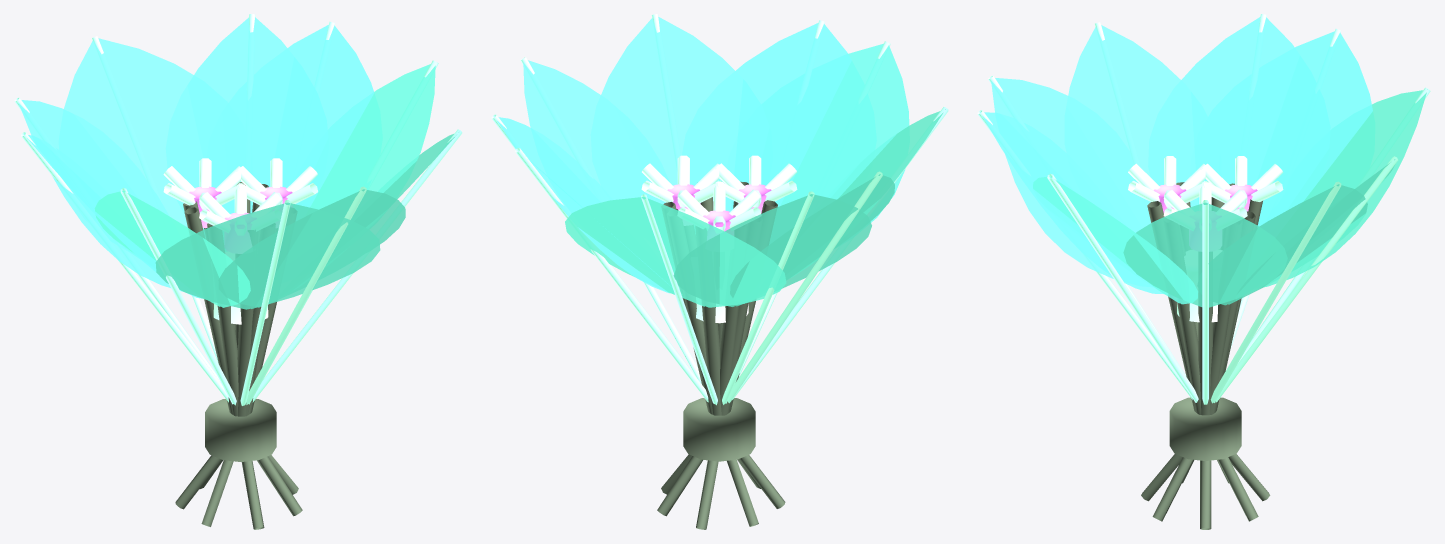
Rendered from aquaglow-mature.glb.
The picture shows the model from 3 angles, left to right: view 1: azimuth 30°, elevation 25°; view 2: azimuth 150°, elevation 25°; view 3: azimuth 270°, elevation 25°; orthographic projection.
Visible parts, largest first — view 1: shell-material-5-0, shell-material-7-0, shell-material-6-0, shell-material-8-0, shell-material-9-0; view 2: shell-material-5-0, shell-material-7-0, shell-material-6-0, shell-material-8-0, shell-material-9-0; view 3: shell-material-5-0, shell-material-7-0, shell-material-6-0, shell-material-8-0, shell-material-9-0.
Part boxes in pixels (left/top/right/bottom): shell-material-5-0: left=17, top=17, right=458, bottom=309; shell-material-7-0: left=175, top=182, right=302, bottom=529; shell-material-6-0: left=14, top=14, right=462, bottom=405; shell-material-8-0: left=163, top=158, right=317, bottom=324; shell-material-9-0: left=189, top=186, right=292, bottom=228; shell-material-5-0: left=494, top=17, right=945, bottom=307; shell-material-7-0: left=657, top=181, right=785, bottom=529; shell-material-6-0: left=491, top=14, right=948, bottom=405; shell-material-8-0: left=641, top=155, right=797, bottom=323; shell-material-9-0: left=667, top=184, right=771, bottom=231; shell-material-5-0: left=980, top=17, right=1427, bottom=307; shell-material-7-0: left=1141, top=182, right=1270, bottom=529; shell-material-6-0: left=977, top=14, right=1430, bottom=404; shell-material-8-0: left=1128, top=156, right=1283, bottom=322; shell-material-9-0: left=1153, top=184, right=1257, bottom=213.
Bounding box in the file's own units: 1.75 × 1.72 × 1.76.
